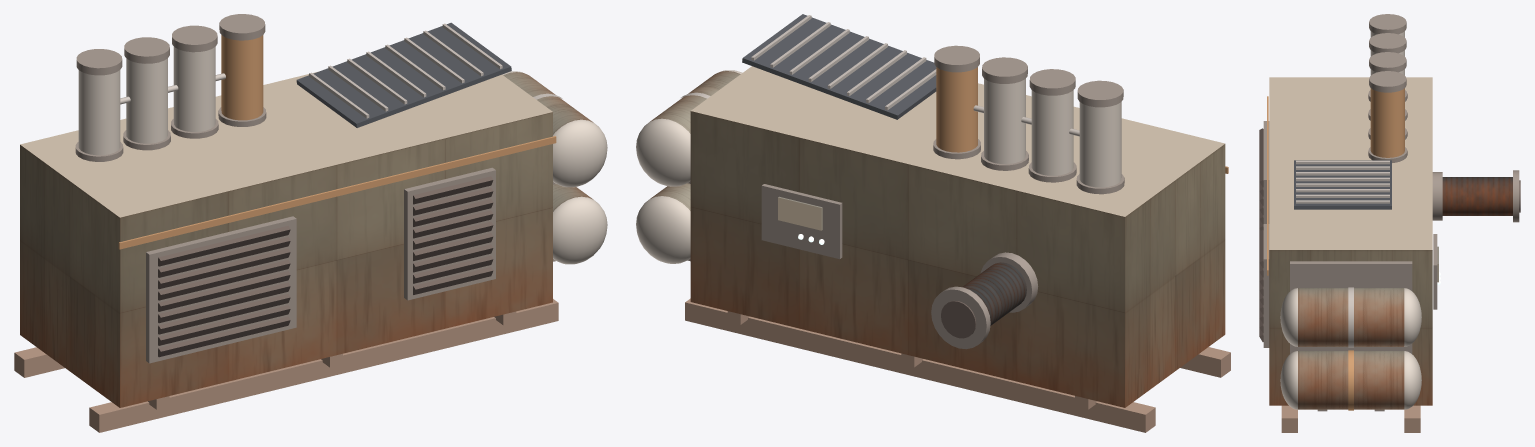
Rendered from E16_life_support_module.glb.
3 renders of one model, left to right at view 1: azimuth 30°, elevation 25°; view 2: azimuth 150°, elevation 25°; view 3: azimuth 270°, elevation 25°, orthographic. The views are drawn at different scales.
Visible parts, largest first — view 1: housing, louver (×18), filter_cartridge (×4), vent_frame (×2), skid (×2), roof_radiator, tank_end (×2), cartridge_cap (×4), accent_stripe, gas_tank; view 2: housing, filter_cartridge (×4), skid (×2), roof_radiator, tank_end (×2), cartridge_cap (×4), control_panel, habitat_connector_hose, connector_flange, gas_tank, display, connector_bore (+1 smaller); view 3: housing, gas_tank (×2), tank_backplate, tank_end (×4), radiator_fin (×8), habitat_connector_hose, cartridge_cap (×4), roof_radiator, filter_cartridge, vent_frame (×2), skid (×2), tank_band (×2) (+5 smaller).
Boxes of the visible parts, x1,y1,x2,y2 form: housing: (20, 72, 552, 407); louver (×18): (158, 176, 493, 357); filter_cartridge (×4): (78, 35, 263, 155); vent_frame (×2): (146, 167, 495, 363); skid (×2): (14, 299, 558, 432); roof_radiator: (296, 22, 511, 127); tank_end (×2): (553, 119, 607, 264); cartridge_cap (×4): (76, 14, 265, 75); accent_stripe: (118, 136, 556, 249); gas_tank: (503, 72, 593, 134); housing: (690, 66, 1225, 407); filter_cartridge (×4): (936, 67, 1121, 187); skid (×2): (685, 298, 1230, 432); roof_radiator: (742, 14, 936, 119); tank_end (×2): (636, 118, 690, 263); cartridge_cap (×4): (934, 45, 1123, 107); control_panel: (761, 184, 842, 259); habitat_connector_hose: (962, 262, 1026, 325); connector_flange: (931, 286, 990, 349); gas_tank: (650, 71, 740, 133); display: (778, 196, 822, 230); connector_bore: (941, 300, 976, 338); housing: (1269, 77, 1432, 405); gas_tank (×2): (1298, 288, 1404, 409); tank_backplate: (1290, 261, 1412, 353); tank_end (×4): (1280, 288, 1421, 409); radiator_fin (×8): (1296, 160, 1389, 203); habitat_connector_hose: (1442, 177, 1512, 215); cartridge_cap (×4): (1369, 14, 1406, 92); roof_radiator: (1294, 160, 1391, 209); filter_cartridge: (1370, 88, 1404, 157); vent_frame (×2): (1263, 121, 1269, 347); skid (×2): (1281, 405, 1420, 432); tank_band (×2): (1348, 287, 1353, 410).
Size of the model in its own units: 5.97 by 3.43 by 3.2.
Materials: 13 (3 with a texture image).
